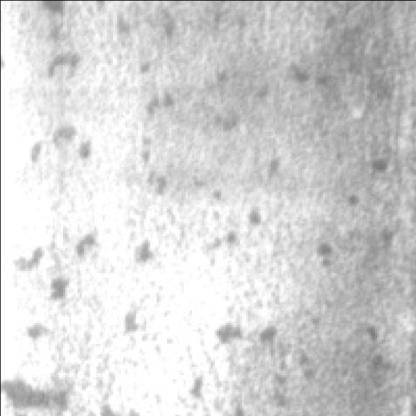pitted_surface: (102, 8, 380, 354), (0, 0, 102, 414)
